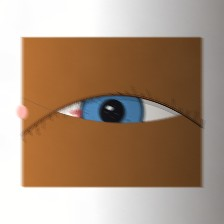hemorrhage_spot: (60, 89, 145, 157)
